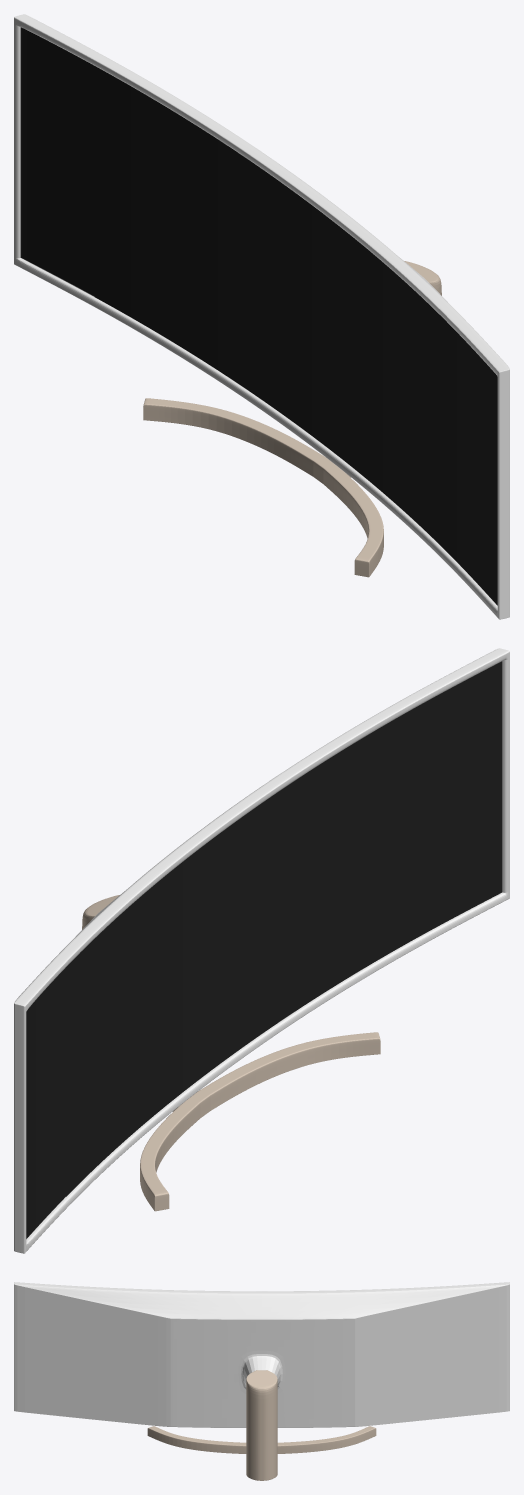
Rendered from 32_9 monitor 43.4in.glb.
3 renders of one model, top to bottom at view 1: azimuth 30°, elevation 25°; view 2: azimuth 150°, elevation 25°; view 3: azimuth 270°, elevation 25°, orthographic. The views are drawn at different scales.
Visible parts, largest first — view 1: Plane, Cylinder; view 2: Plane, Cylinder; view 3: Plane, Cylinder.
Part boxes in pixels (x1,y1,x2,y2): Plane: (14,14,509,619); Cylinder: (143,261,441,577); Plane: (14,648,509,1253); Cylinder: (82,895,380,1211); Plane: (14,1282,509,1427); Cylinder: (147,1370,376,1480).
Bounding box in the file's own units: 9.56 × 14.54 × 42.42.
